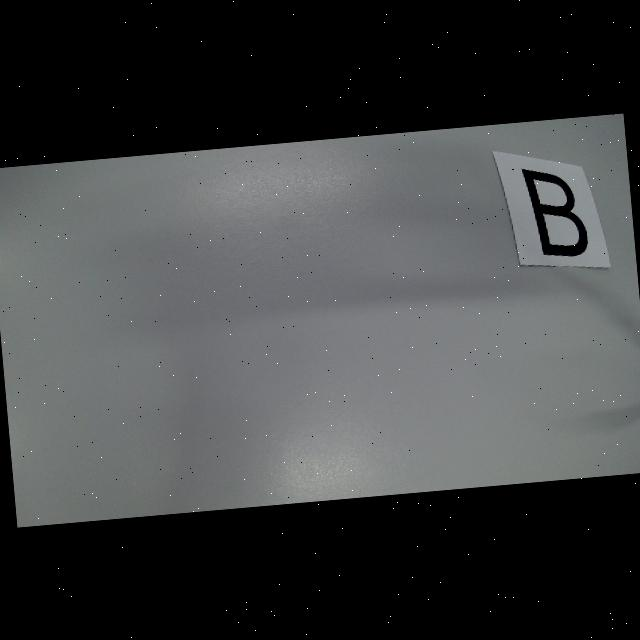FAKE: (520, 162, 589, 260)
